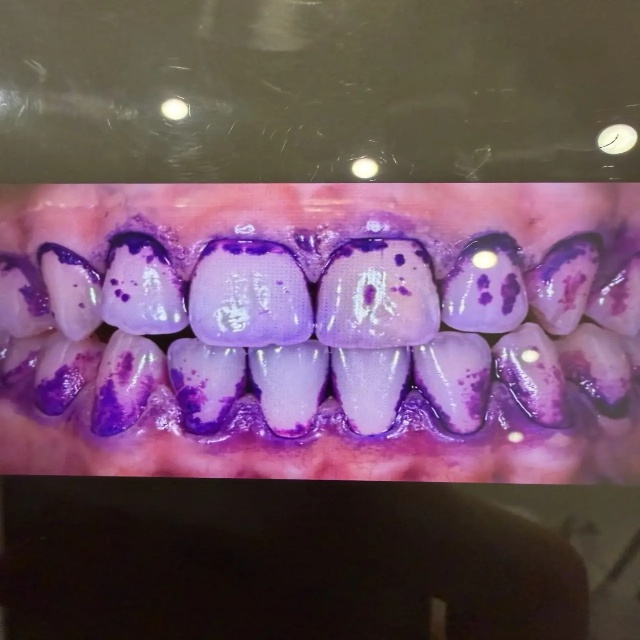plaque: (0, 182, 640, 480)
